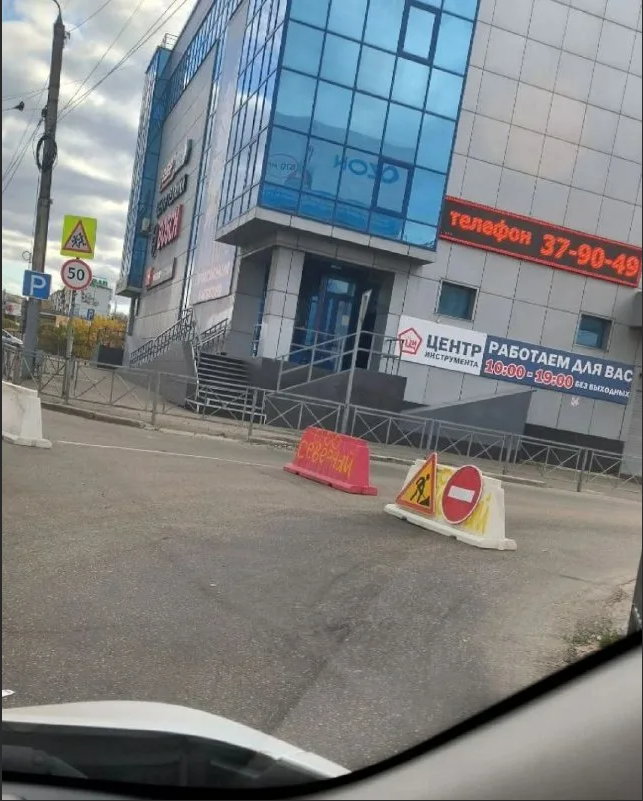sign: (393, 450, 439, 516), (441, 460, 483, 525), (59, 214, 97, 258), (58, 258, 94, 291), (21, 268, 53, 303)
